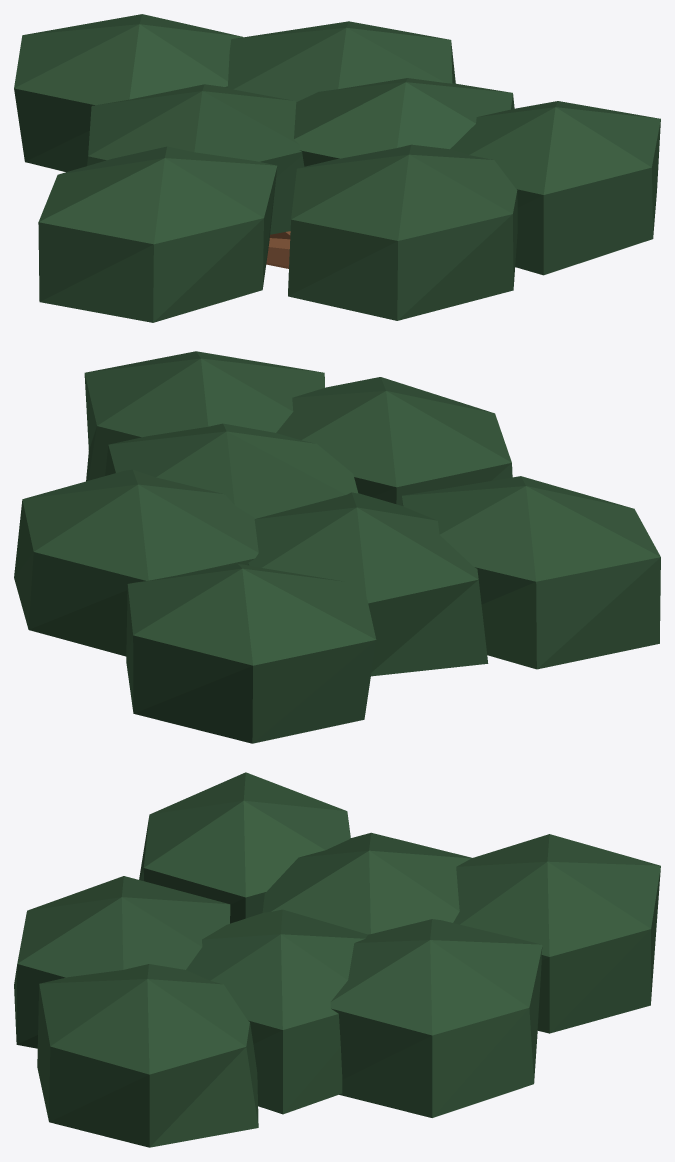
Rendered from Plant_Common_SpreadingShrub_001_LOD1.glb.
The picture shows the model from 3 angles, top to bottom: view 1: azimuth 30°, elevation 25°; view 2: azimuth 150°, elevation 25°; view 3: azimuth 270°, elevation 25°; orthographic projection. The views are drawn at different scales.
Parts seen in each view (by area): view 1: Plant_Common_SpreadingShrub_001_LOD1; view 2: Plant_Common_SpreadingShrub_001_LOD1; view 3: Plant_Common_SpreadingShrub_001_LOD1.
Boxes of the visible parts, x1,y1,x2,y2 form: Plant_Common_SpreadingShrub_001_LOD1: (14, 14, 660, 322); Plant_Common_SpreadingShrub_001_LOD1: (14, 351, 660, 743); Plant_Common_SpreadingShrub_001_LOD1: (14, 772, 660, 1147).
Size of the model in its own units: 2.43 by 0.6888 by 2.23.
